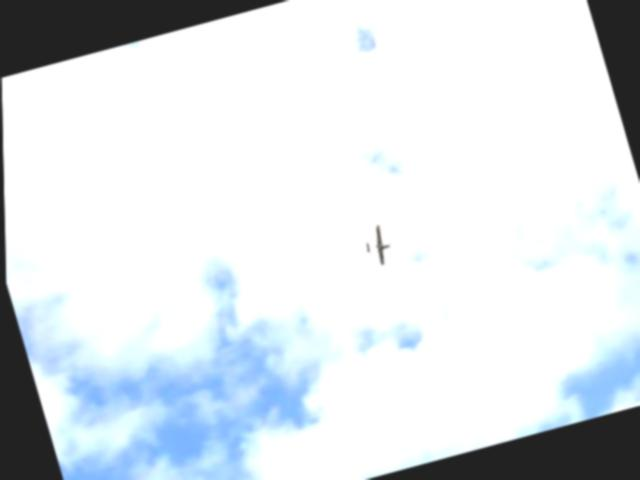uav: (356, 216, 397, 271)
